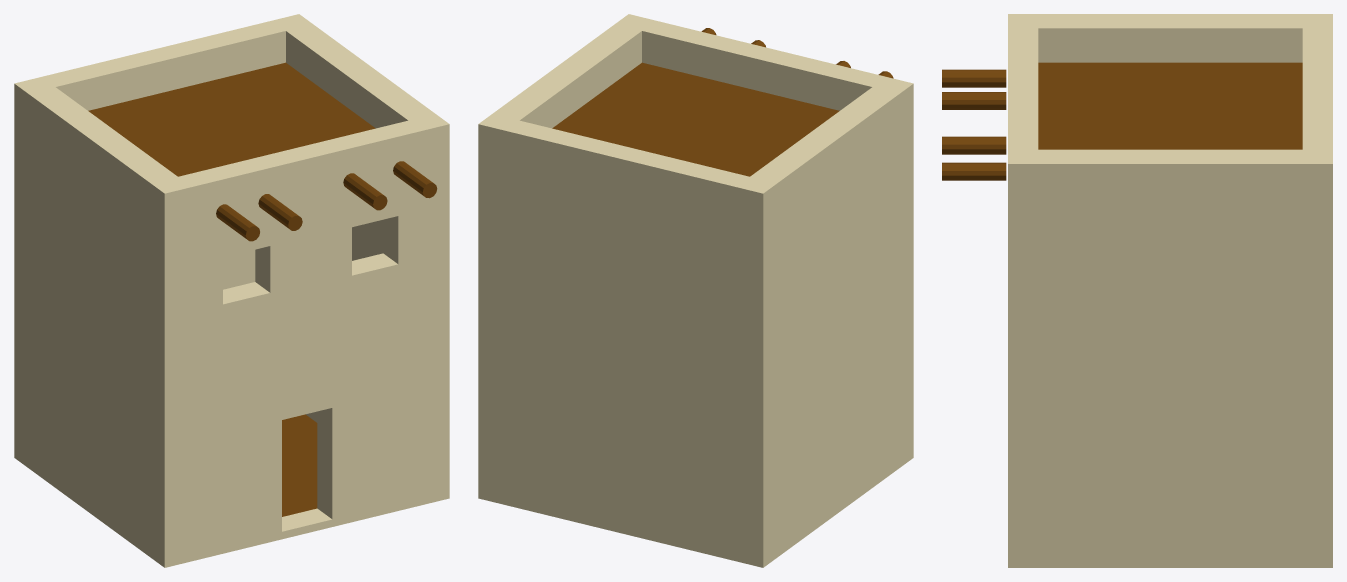
Rendered from tall.glb.
3 renders of one model, left to right at view 1: azimuth 30°, elevation 25°; view 2: azimuth 150°, elevation 25°; view 3: azimuth 270°, elevation 25°, orthographic. The views are drawn at different scales.
Visible parts, largest first — view 1: tall; view 2: tall; view 3: tall.
Part boxes in pixels (left/top/right/bottom): tall: left=14, top=14, right=449, bottom=567; tall: left=478, top=14, right=913, bottom=567; tall: left=942, top=14, right=1332, bottom=567.
Size of the model in its own units: 4.7 by 5.9 by 5.18.
